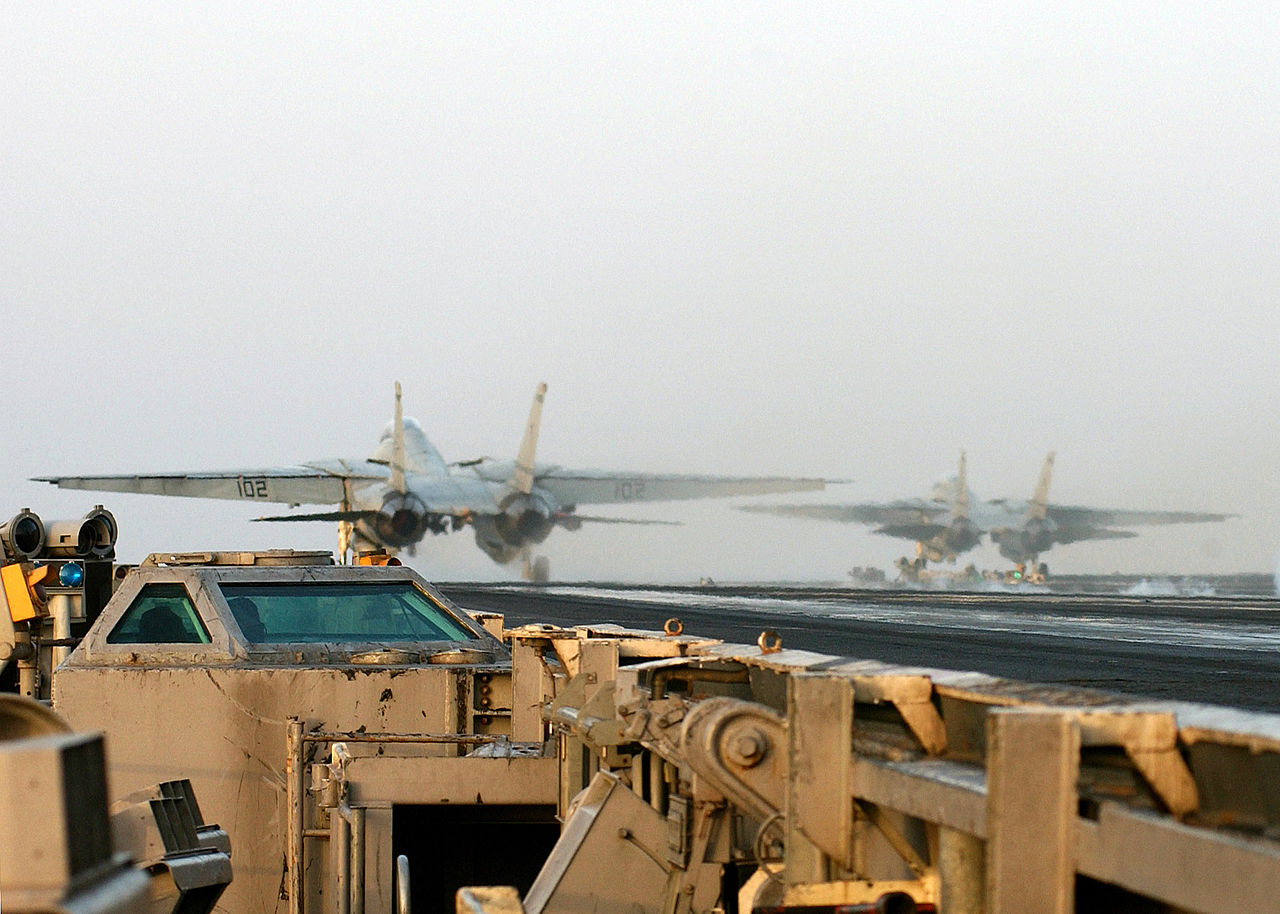F14: (26, 378, 856, 584), (728, 445, 1243, 583)
